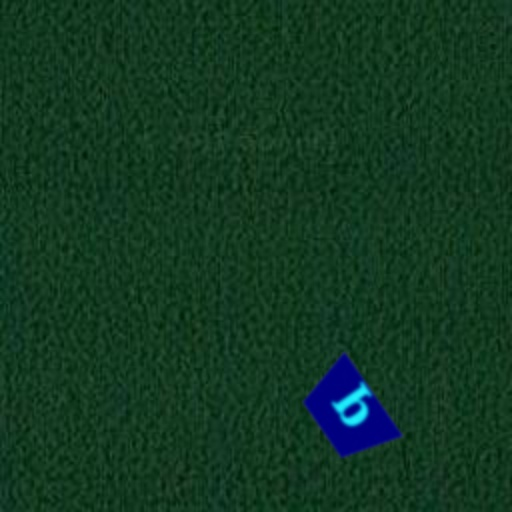trapezoid: (276, 340, 420, 484)
